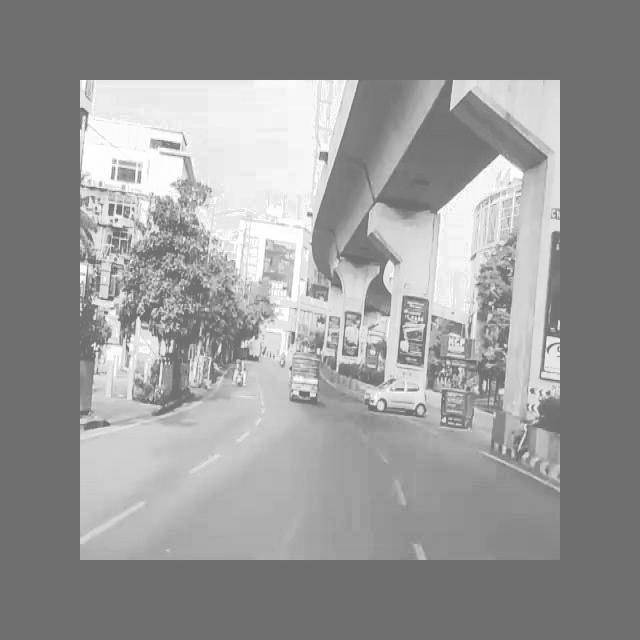Car: (364, 371, 428, 429)
LCV: (288, 350, 328, 406)
